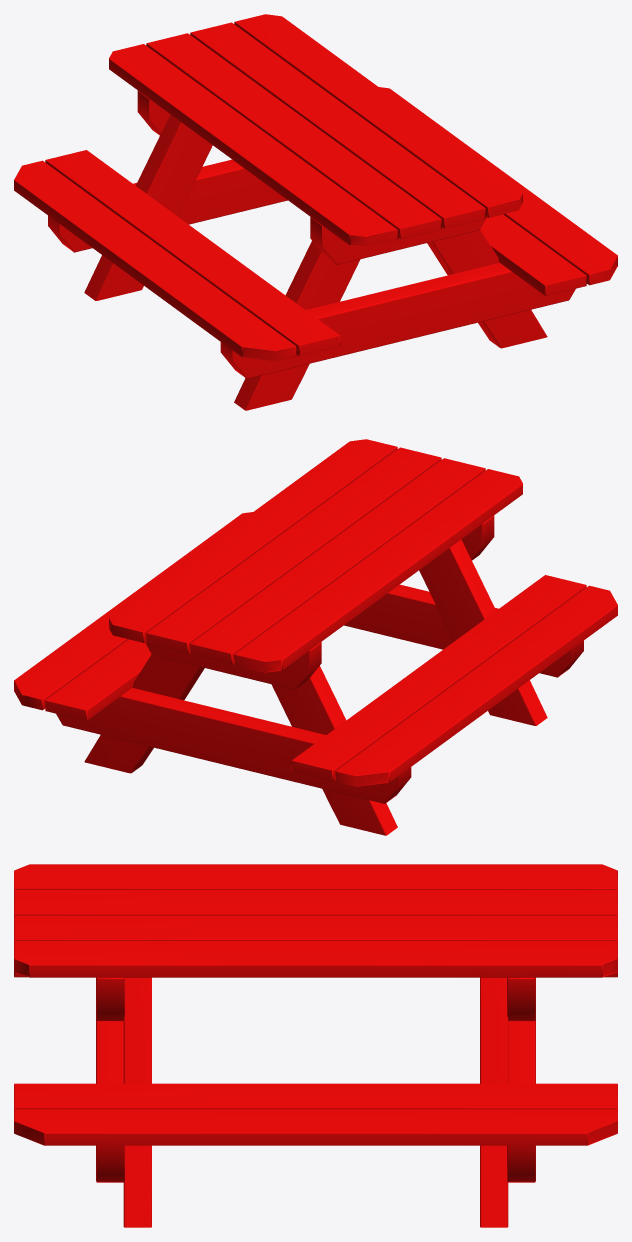
Rendered from CampingTable.fbx.
3 views of the same model, one above another, from view 1: azimuth 30°, elevation 25°; view 2: azimuth 150°, elevation 25°; view 3: azimuth 270°, elevation 25° (orthographic). The views are drawn at different scales.
Parts seen in each view (by area): view 1: TableB_6, TableB_, TableB_3, TableB_5, TableB_2, TableB_1, TableB_4; view 2: TableB_6, TableB_, TableB_3, TableB_5, TableB_2, TableB_1, TableB_4; view 3: TableB_, TableB_6, TableB_1, TableB_2, TableB_5, TableB_3, TableB_4.
Boxes of the visible parts, box(x1,y1,x2,y2) form: TableB_6: box(14, 87, 617, 361); TableB_: box(109, 14, 522, 247); TableB_3: box(48, 159, 575, 378); TableB_5: box(84, 114, 547, 410); TableB_2: box(146, 33, 441, 239); TableB_1: box(190, 22, 485, 228); TableB_4: box(137, 90, 486, 264); TableB_6: box(14, 512, 617, 786); TableB_: box(109, 439, 522, 672); TableB_3: box(56, 584, 583, 803); TableB_5: box(84, 539, 547, 835); TableB_2: box(190, 458, 485, 664); TableB_1: box(146, 447, 441, 653); TableB_4: box(145, 515, 494, 689); TableB_: box(14, 864, 617, 977); TableB_6: box(14, 971, 617, 1145); TableB_1: box(14, 915, 617, 941); TableB_2: box(14, 890, 617, 915); TableB_5: box(123, 977, 508, 1227); TableB_3: box(96, 1020, 535, 1182); TableB_4: box(96, 977, 535, 1021).
Bounding box in the file's own units: 21400 × 10290 × 25000.
